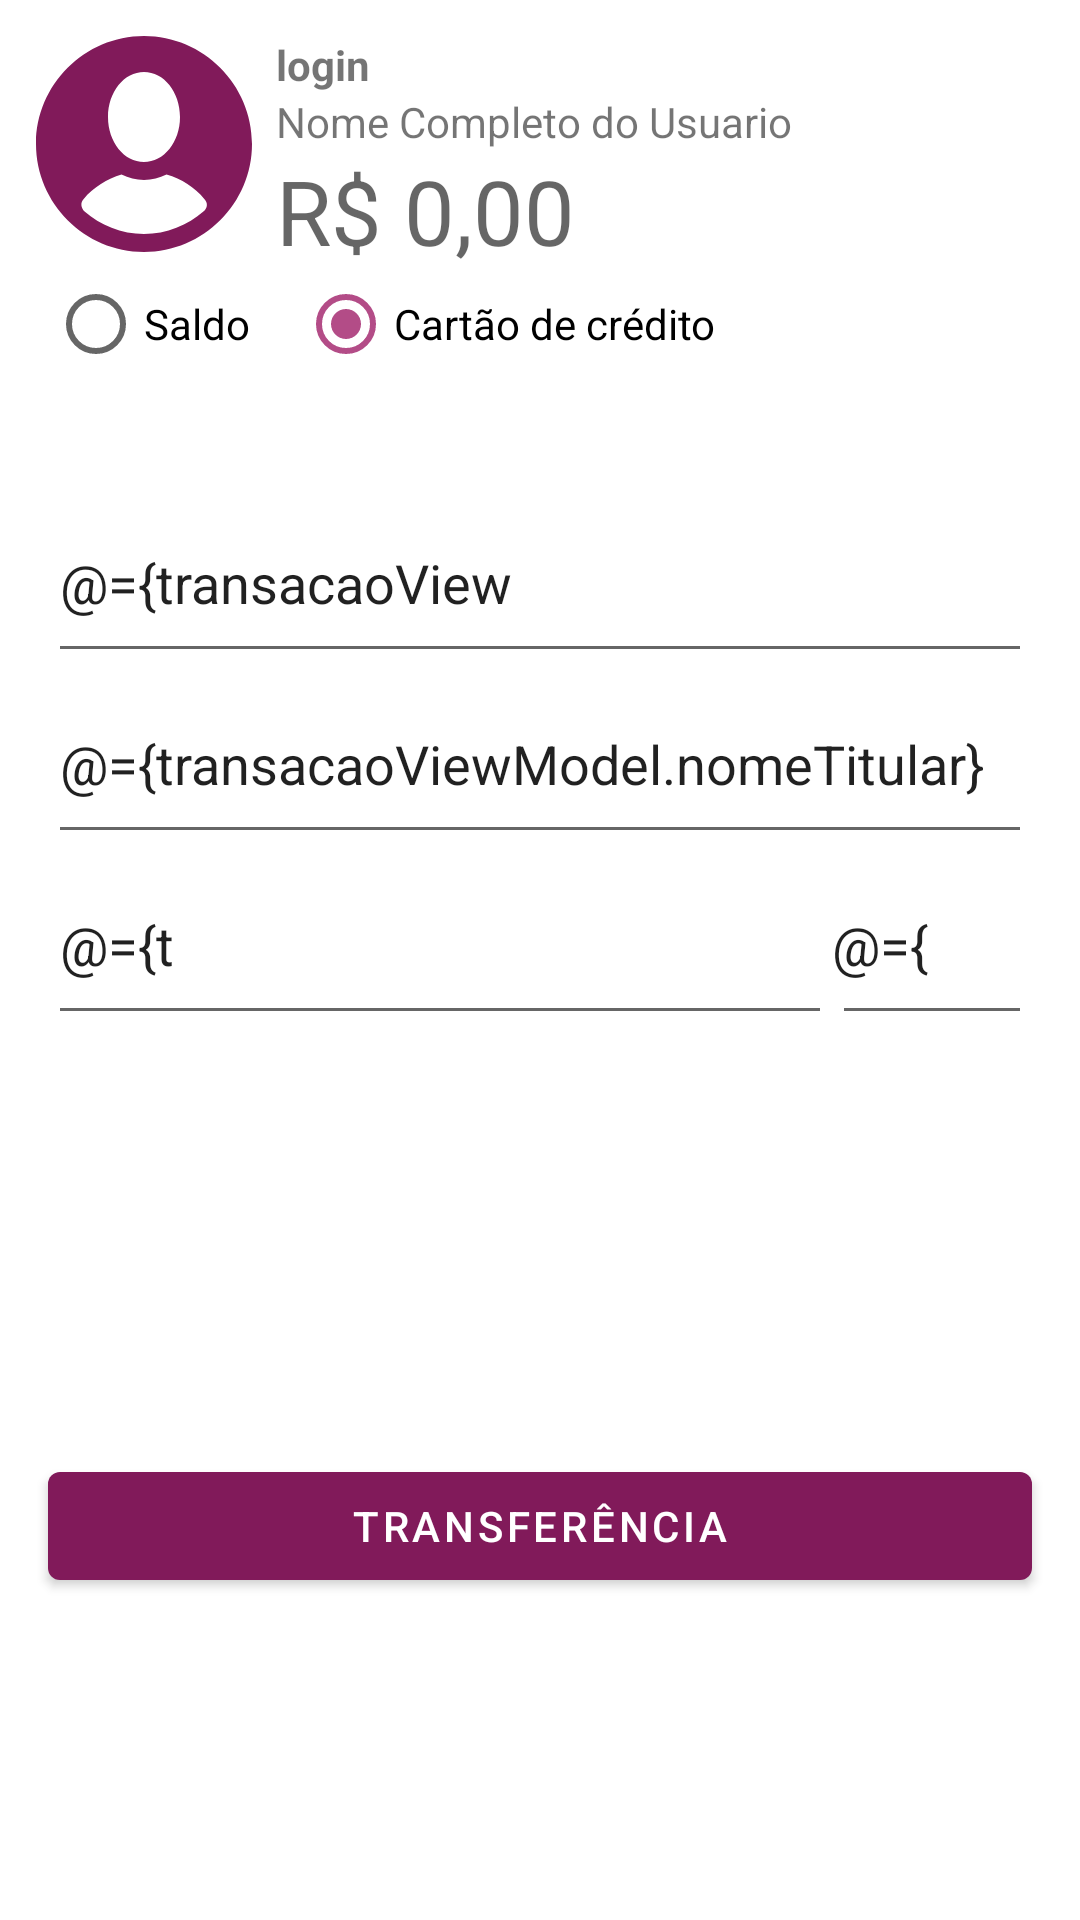

Icon click points for this 1080px×1920px phone screenshot, format point (x, y):
icone de um usuario: point (144, 144)
